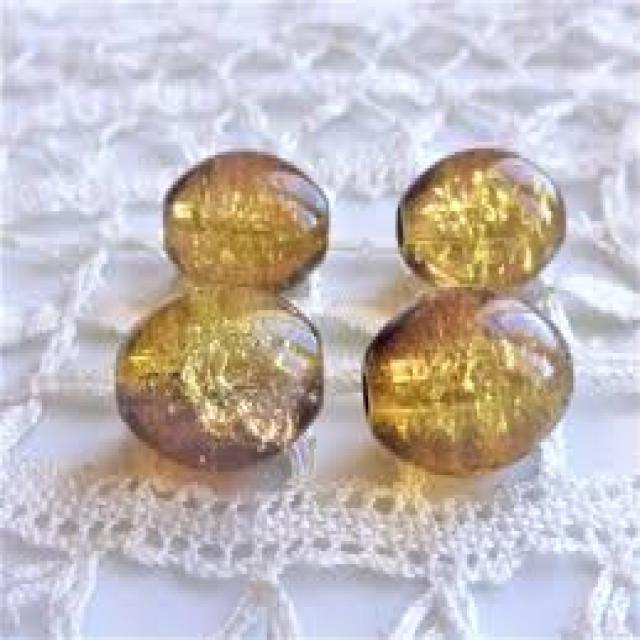Glass: (358, 288, 575, 481), (112, 284, 325, 473), (397, 149, 572, 289), (160, 148, 334, 285)
